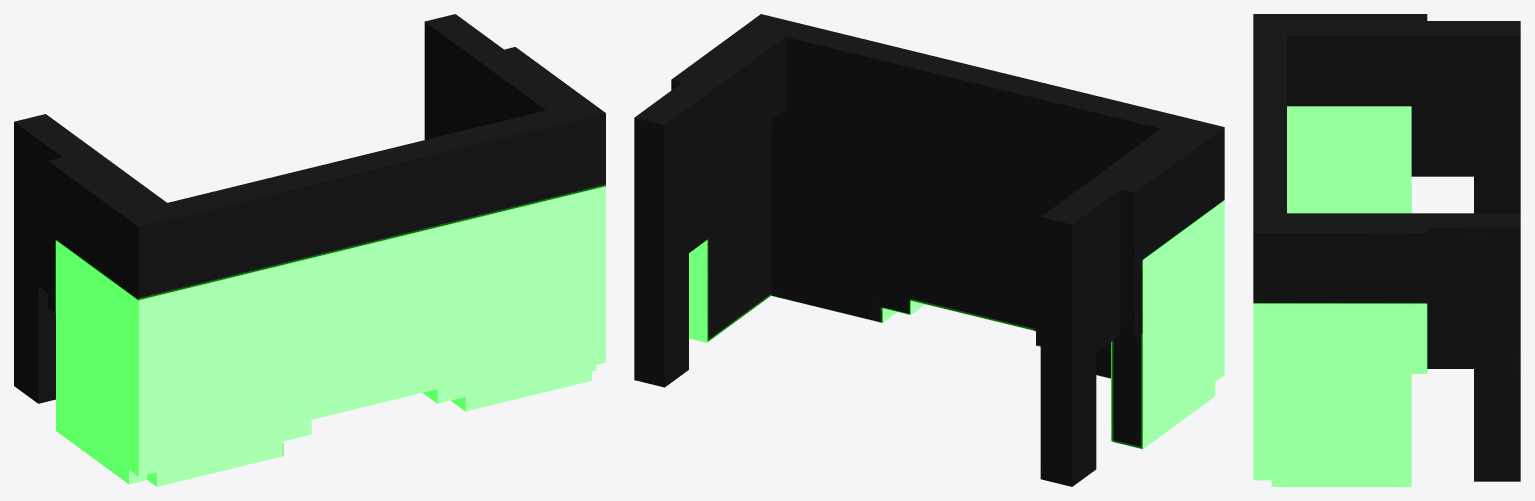
The model's file is blade.glb.
3 views of the same model, side by side, from view 1: azimuth 30°, elevation 25°; view 2: azimuth 150°, elevation 25°; view 3: azimuth 270°, elevation 25° (orthographic). The views are drawn at different scales.
Parts seen in each view (by area): view 1: giant_blade.001; view 2: giant_blade.001; view 3: giant_blade.001.
Boxes of the visible parts, x1,y1,x2,y2 form: giant_blade.001: (14,14,605,486); giant_blade.001: (634,14,1224,486); giant_blade.001: (1253,14,1520,486).
Size of the model in its own units: 3.33 by 1.8 by 1.72.
Materials: 1 (1 with a texture image).
